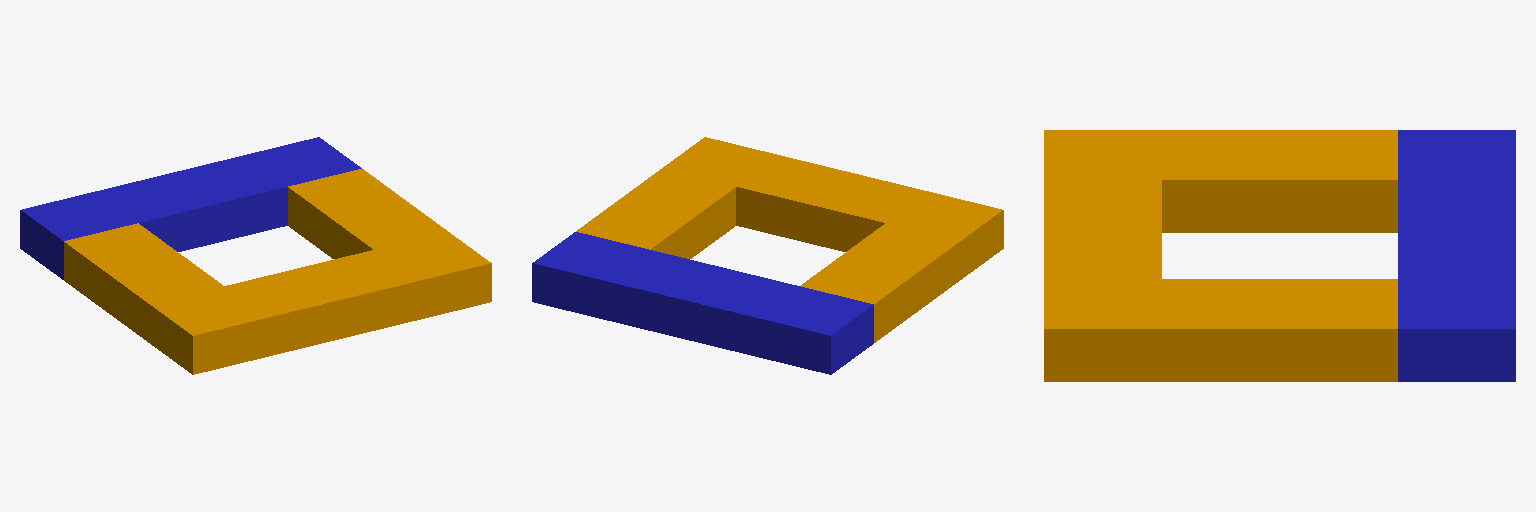
The robot description file, URDF, robot "hole_board":
<?xml version="1.0"?>
<robot name="hole_board">

  <link name="base_link">
    <inertial>
      <mass value="10.0"/>
      <origin xyz="0 0 0" rpy="0 0 0"/>
      <inertia ixx="0.1" ixy="0" ixz="0" iyy="0.1" iyz="0" izz="0.1"/>
    </inertial>

    <visual>
      <origin xyz="0 0.15 0.025" rpy="0 0 0"/>
      <geometry><box size="0.4 0.1 0.05"/></geometry>
      <material name="blue"><color rgba="0.2 0.2 0.8 1"/></material>
    </visual>
    <collision name="col_left">
      <origin xyz="0 0.15 0.025" rpy="0 0 0"/>
      <geometry><box size="0.4 0.1 0.05"/></geometry>
    </collision>

    <visual>
      <origin xyz="0 -0.15 0.025" rpy="0 0 0"/>
      <geometry><box size="0.4 0.1 0.05"/></geometry>
    </visual>
    <collision name="col_right">
      <origin xyz="0 -0.15 0.025" rpy="0 0 0"/>
      <geometry><box size="0.4 0.1 0.05"/></geometry>
    </collision>

    <visual>
      <origin xyz="0.15 0 0.025" rpy="0 0 0"/>
      <geometry><box size="0.1 0.2 0.05"/></geometry>
    </visual>
    <collision name="col_front">
      <origin xyz="0.15 0 0.025" rpy="0 0 0"/>
      <geometry><box size="0.1 0.2 0.05"/></geometry>
    </collision>

    <visual>
      <origin xyz="-0.15 0 0.025" rpy="0 0 0"/>
      <geometry><box size="0.1 0.2 0.05"/></geometry>
    </visual>
    <collision name="col_back">
      <origin xyz="-0.15 0 0.025" rpy="0 0 0"/>
      <geometry><box size="0.1 0.2 0.05"/></geometry>
    </collision>
  </link>

  <gazebo>
    <static>true</static>
  </gazebo>

</robot>

--- Facts derived from the render (not from the file) ---
The picture shows the robot from 3 angles, left to right: view 1: azimuth 30°, elevation 25°; view 2: azimuth 150°, elevation 25°; view 3: azimuth 270°, elevation 25°; orthographic projection.
Model hole_board with 1 links and 0 joints (none), rooted at base_link, posed every joint at zero.
Visible links, largest first — view 1: base_link; view 2: base_link; view 3: base_link.
Boxes of the visible links, <box> form: base_link: <box>20,137,491,374</box>; base_link: <box>532,137,1003,374</box>; base_link: <box>1044,130,1515,381</box>.
Bounding box of the posed robot: 0.4 × 0.4 × 0.05 m (x, y, z).
Geometry: primitives only (box / cylinder / sphere), no mesh files.
